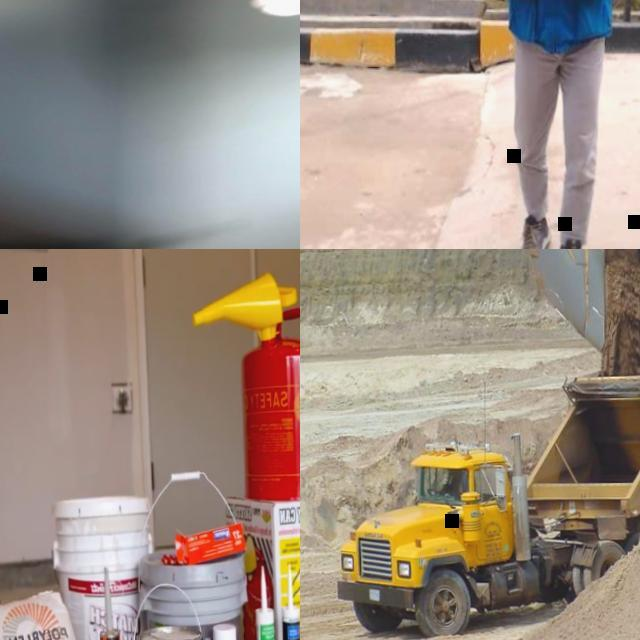machinery: (330, 336, 640, 640)
person: (425, 0, 640, 249), (436, 469, 463, 495)
vest: (447, 475, 462, 494)
